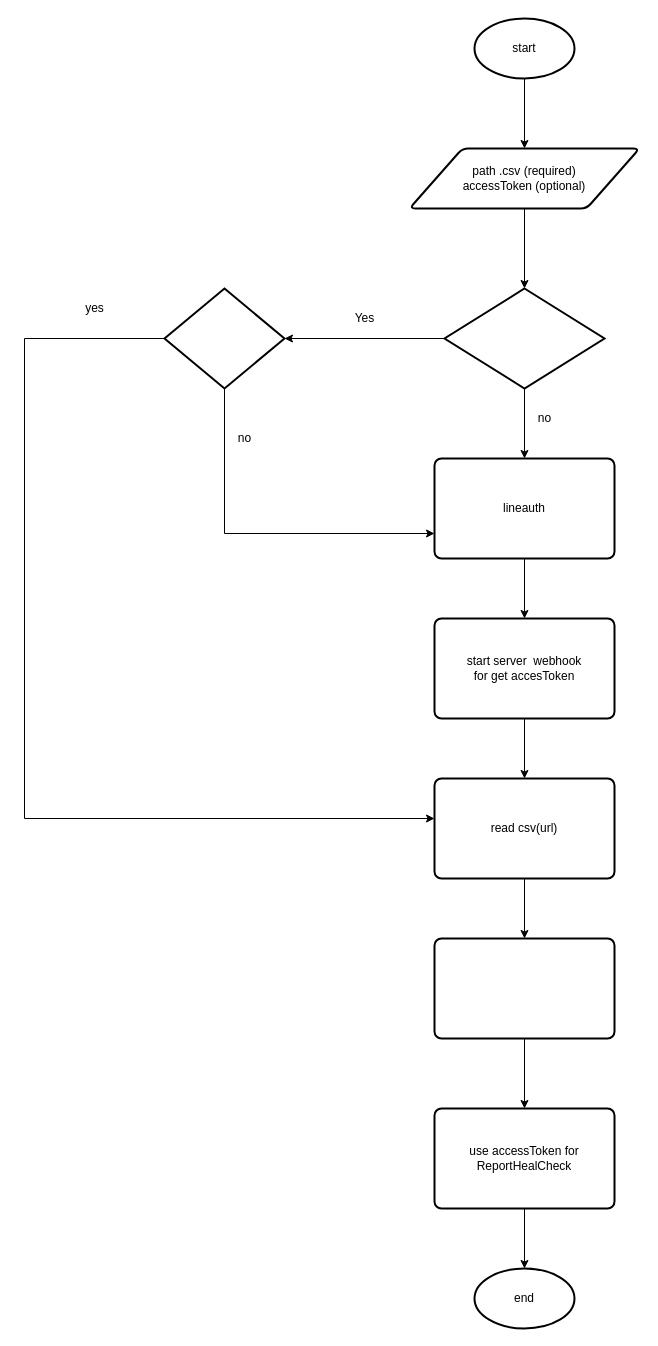
This 658x1346 diagram has some shape labels left out. Each missing label, with the centre of its shape:
have accessToken ?: point (524, 338)
healCheckWebsite: point (524, 988)
verifyAccessToken: point (224, 338)
